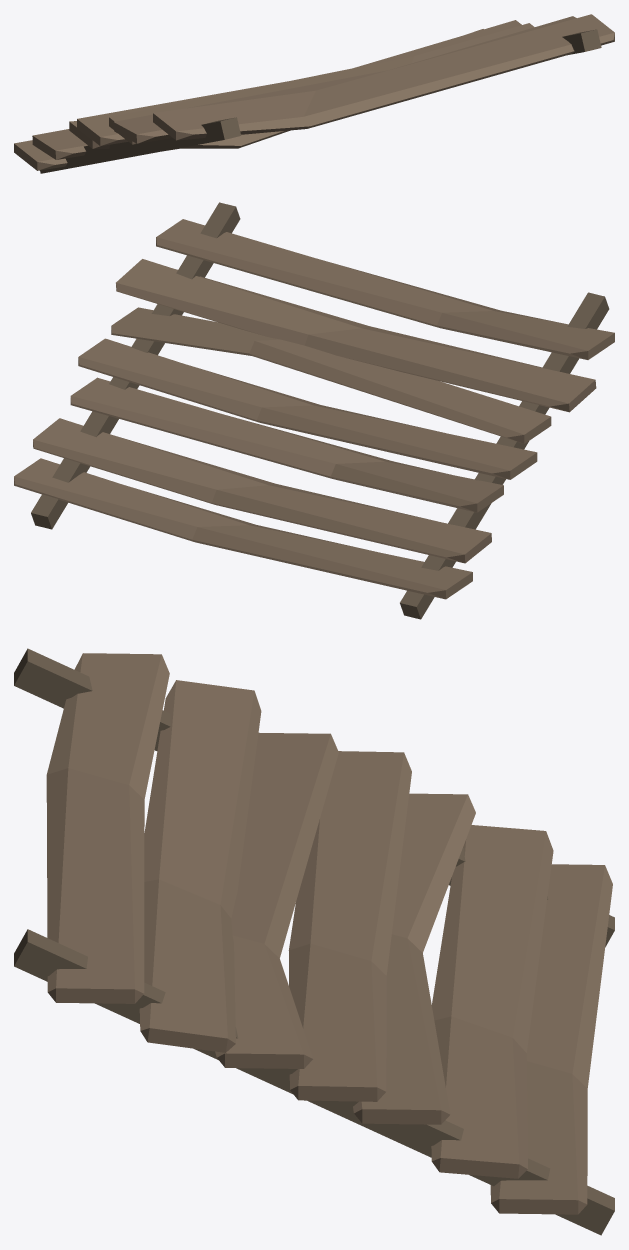
File: SM_Bld_Dock_Stairs_01.glb
The picture shows the model from 3 angles, top to bottom: view 1: azimuth 30°, elevation 25°; view 2: azimuth 150°, elevation 25°; view 3: azimuth 270°, elevation 25°; orthographic projection. The views are drawn at different scales.
Parts seen in each view (by area): view 1: node_id4; view 2: node_id4; view 3: node_id4.
Boxes of the visible parts, bbox=[...] form: node_id4: bbox=[14, 14, 614, 173]; node_id4: bbox=[14, 202, 614, 619]; node_id4: bbox=[14, 648, 614, 1235].
Bounding box in the file's own units: 0.512 × 0.199 × 0.369.
1 material, 1 textured.
